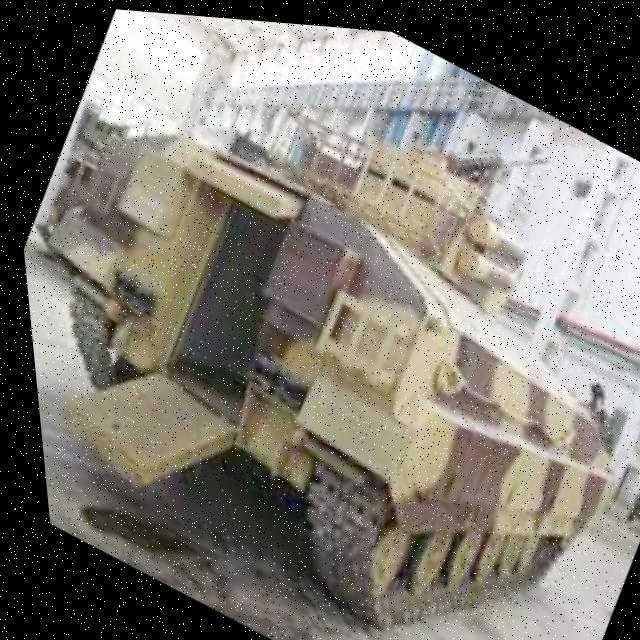MIL_APC: (2, 32, 640, 640)
